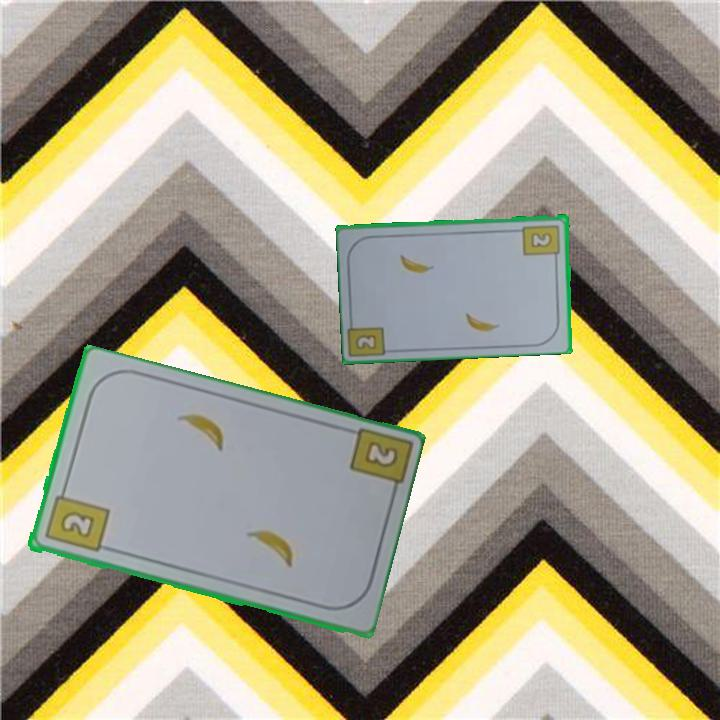2b: (41, 483, 111, 555), (520, 221, 563, 263), (364, 441, 398, 469), (352, 331, 380, 352)
